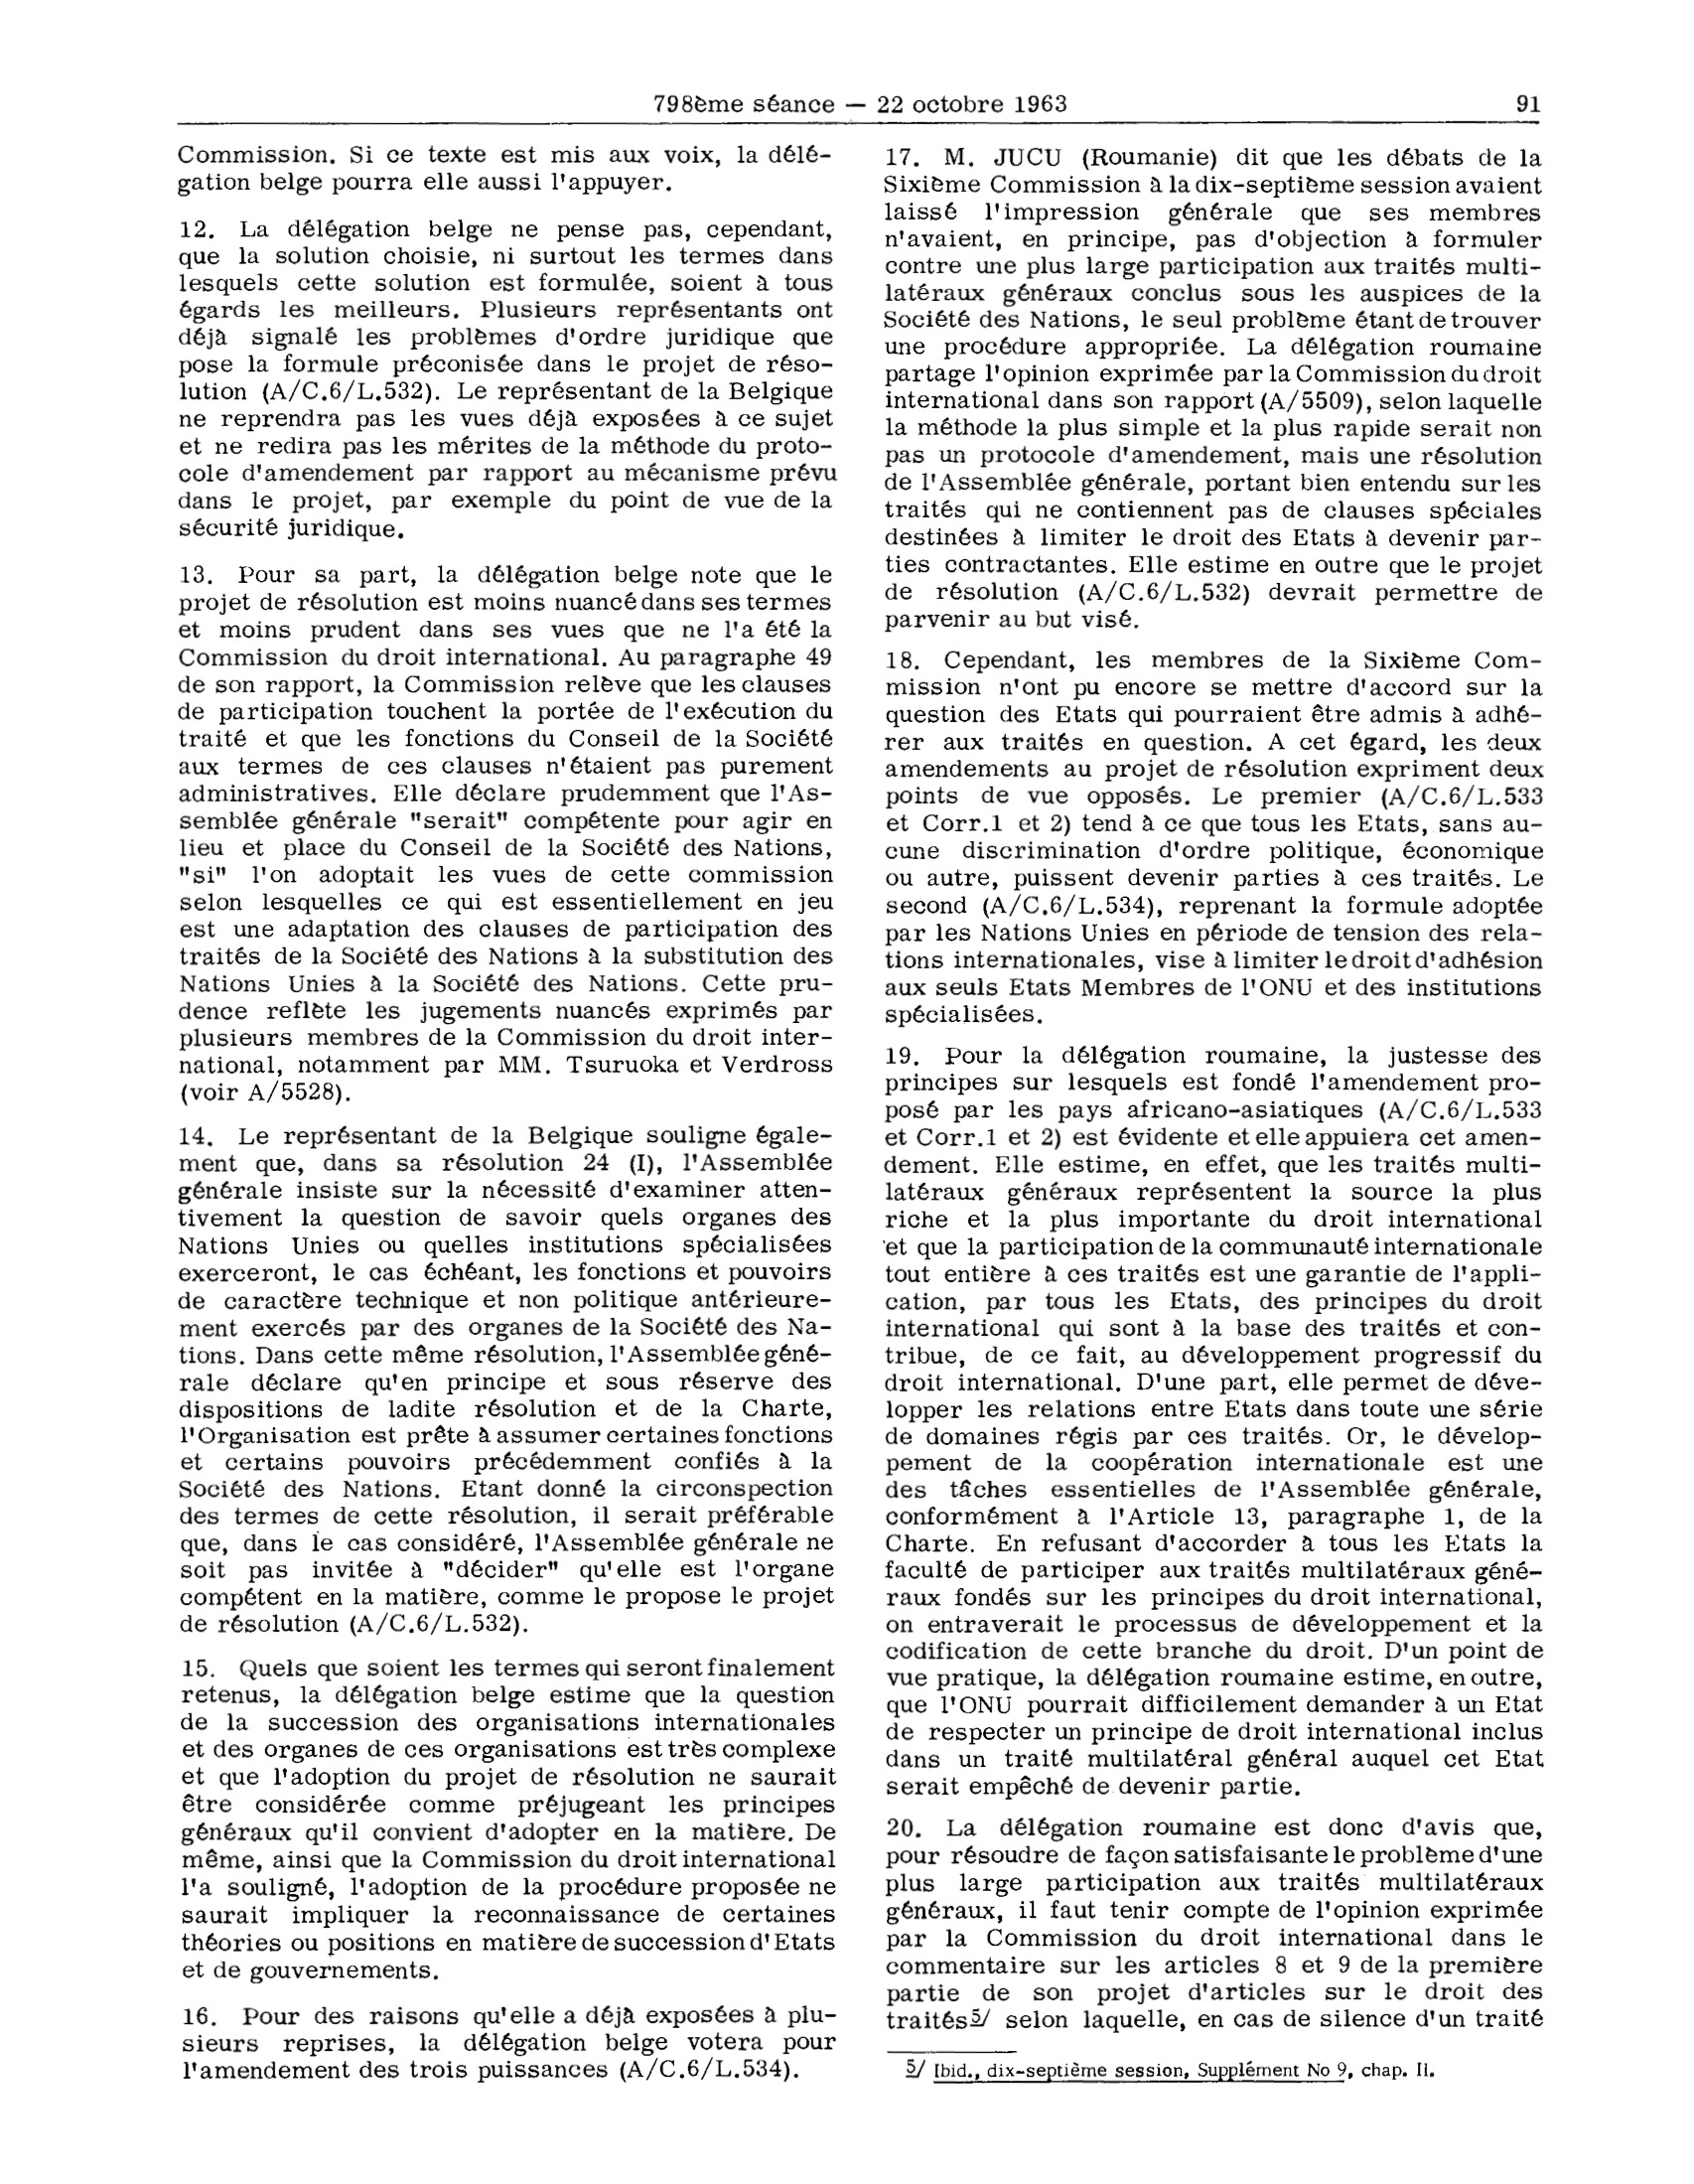MainZone-Continued: (167, 135, 838, 202)
MainZone-ListItem: (875, 1039, 1554, 1796), (167, 557, 840, 1110), (167, 1117, 842, 1638), (877, 138, 1549, 633), (874, 642, 1554, 1032), (167, 209, 842, 548), (170, 1650, 840, 1989), (877, 1810, 1552, 2035), (170, 1996, 842, 2092)
MarginTextZone-Notes: (890, 2051, 1453, 2092)
NumberingZone: (1508, 85, 1543, 124)
RunningTitleZone: (645, 83, 1074, 124)
